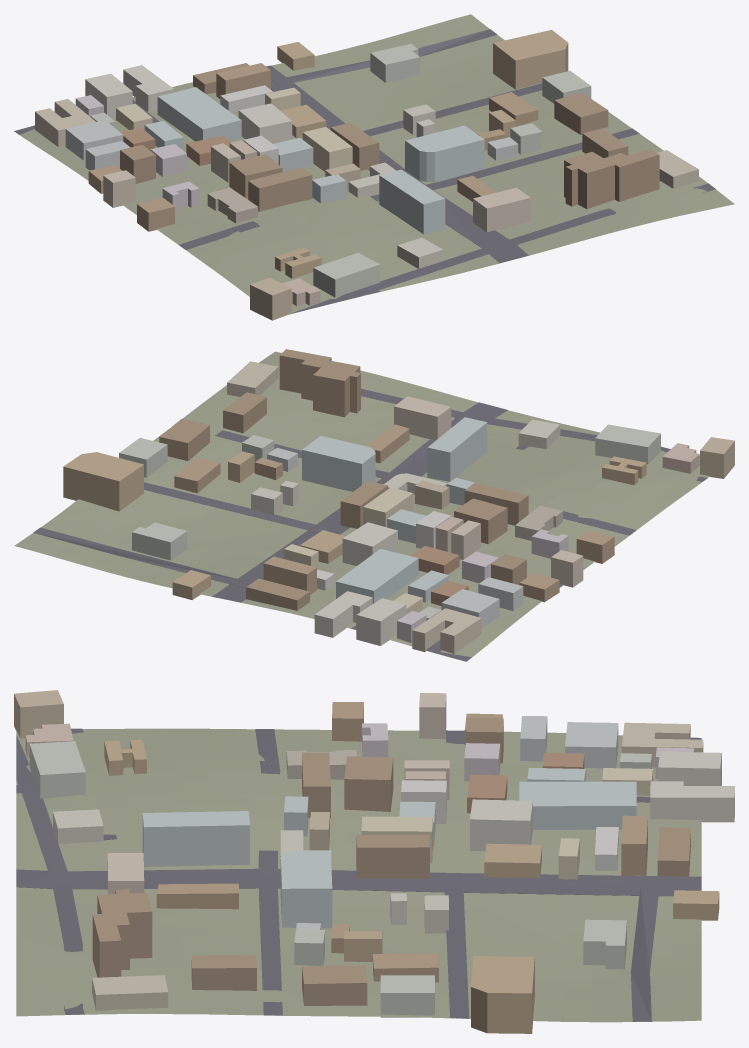
The model's file is chunk_7_7.glb.
3 views of the same model, one above another, from view 1: azimuth 30°, elevation 25°; view 2: azimuth 150°, elevation 25°; view 3: azimuth 270°, elevation 25° (orthographic). The views are drawn at different scales.
Parts seen in each view (by area): view 1: geometry_60, geometry_41, geometry_56, geometry_55, geometry_3, geometry_17, geometry_25, geometry_0, geometry_43, geometry_54, geometry_22, geometry_37 (+50 smaller); view 2: geometry_60, geometry_41, geometry_55, geometry_56, geometry_3, geometry_17, geometry_37, geometry_25, geometry_43, geometry_35, geometry_22, geometry_57 (+47 smaller); view 3: geometry_60, geometry_79, geometry_17, geometry_3, geometry_55, geometry_41, geometry_56, geometry_45, geometry_4, geometry_22, geometry_25, geometry_76 (+52 smaller).
Part boxes in pixels (box(x1,y1,x2,y2)): geometry_60: box(14, 14, 734, 316); geometry_41: box(564, 149, 659, 208); geometry_56: box(405, 125, 484, 181); geometry_55: box(493, 30, 568, 89); geometry_3: box(157, 87, 241, 141); geometry_17: box(379, 169, 445, 234); geometry_25: box(313, 252, 380, 297); geometry_0: box(248, 167, 312, 211); geometry_43: box(473, 187, 530, 232); geometry_54: box(554, 92, 608, 134); geometry_22: box(238, 103, 292, 143); geometry_37: box(35, 99, 95, 146); geometry_60: box(14, 351, 710, 661); geometry_41: box(279, 349, 360, 417); geometry_55: box(63, 452, 143, 511); geometry_56: box(302, 435, 375, 491); geometry_3: box(336, 549, 418, 603); geometry_17: box(427, 417, 487, 481); geometry_37: box(412, 608, 481, 653); geometry_25: box(595, 424, 660, 464); geometry_43: box(394, 396, 451, 440); geometry_35: box(356, 598, 406, 645); geometry_22: box(342, 522, 397, 565); geometry_57: box(132, 522, 187, 560); geometry_60: box(16, 728, 701, 1022); geometry_79: box(268, 869, 701, 896); geometry_17: box(142, 811, 249, 866); geometry_3: box(519, 781, 636, 829); geometry_55: box(471, 956, 534, 1033); geometry_41: box(92, 889, 152, 977); geometry_56: box(280, 850, 332, 928); geometry_45: box(356, 834, 429, 878); geometry_4: box(650, 781, 734, 822); geometry_22: box(470, 799, 532, 851); geometry_25: box(29, 741, 85, 798); geometry_76: box(61, 868, 267, 889).
Bounding box in the file's own units: 265 × 23.68 × 263.
